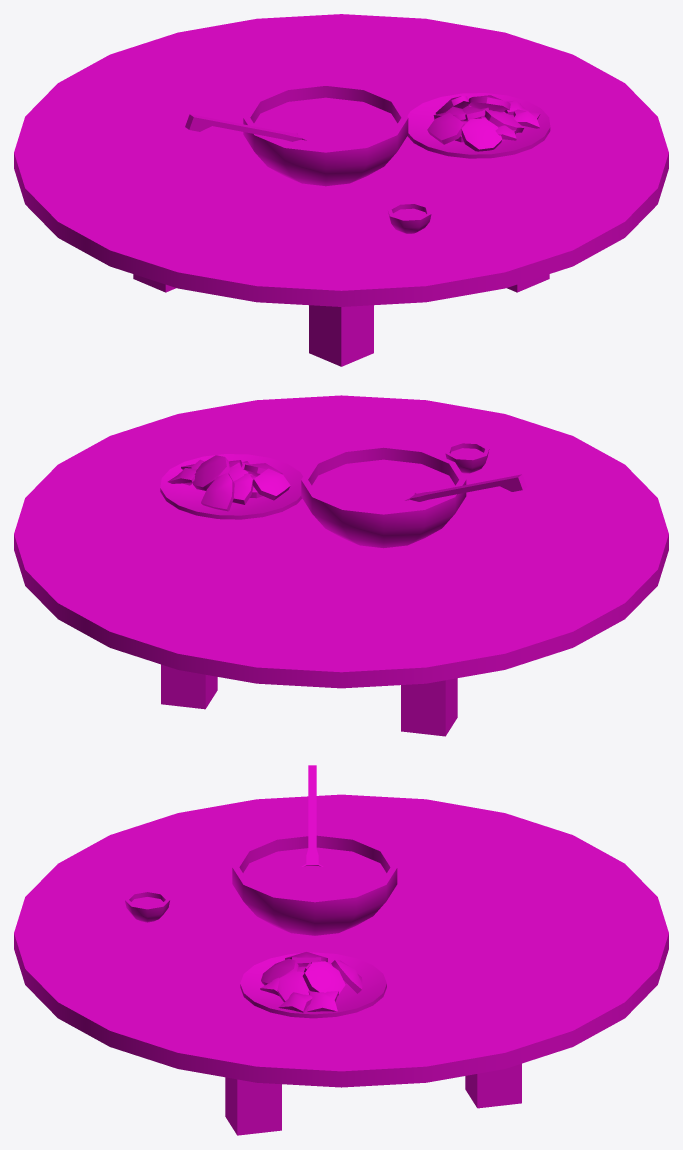
The model's file is table.fbx.
3 views of the same model, one above another, from view 1: azimuth 30°, elevation 25°; view 2: azimuth 150°, elevation 25°; view 3: azimuth 270°, elevation 25° (orthographic).
Visible parts, largest first — view 1: pSphere7; view 2: pSphere7; view 3: pSphere7.
Part boxes in pixels (left/top/right/bottom): pSphere7: left=14, top=14, right=668, bottom=366; pSphere7: left=14, top=395, right=668, bottom=736; pSphere7: left=14, top=765, right=668, bottom=1135.
Bounding box in the file's own units: 4.91 × 1.77 × 4.91.
